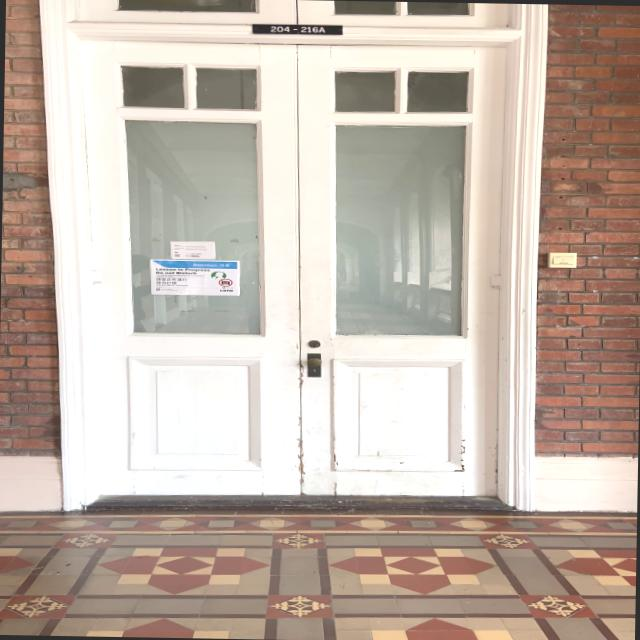room204: (243, 17, 343, 36)
